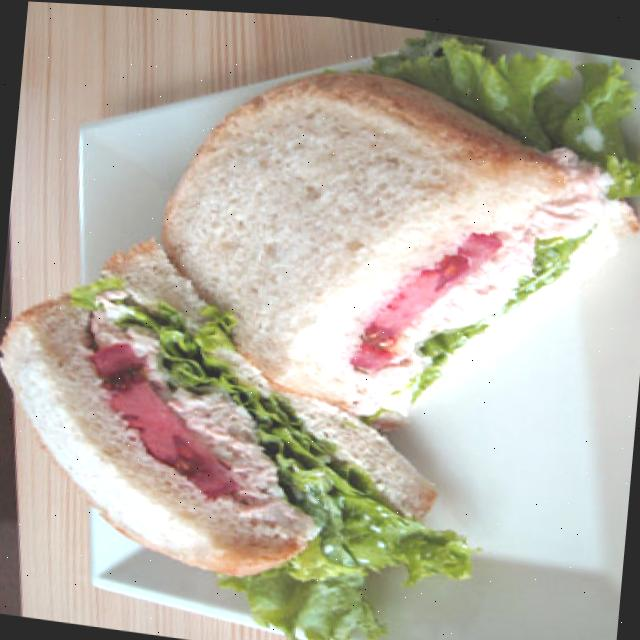三明治: (0, 23, 608, 627)
